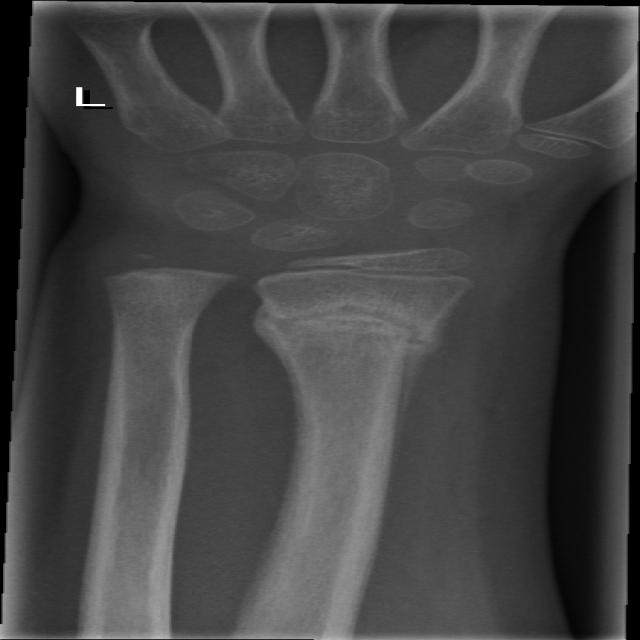radius fracture: (220, 296, 497, 404)
